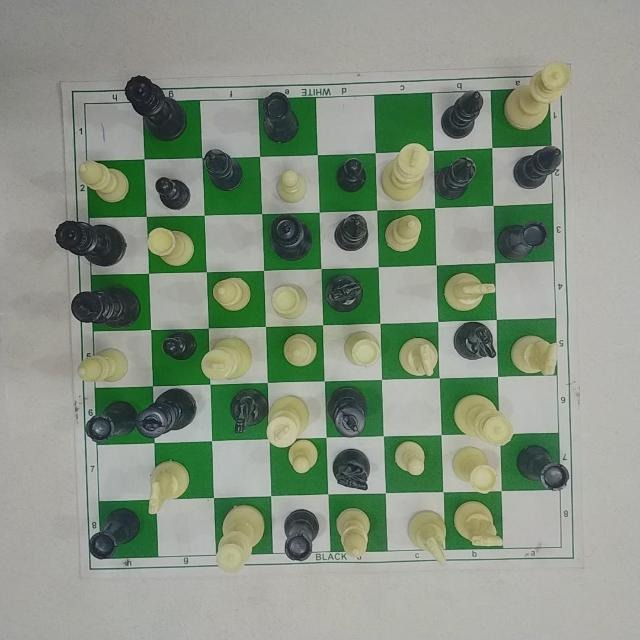black-bishop: (508, 144, 569, 193), (440, 86, 488, 144), (436, 155, 482, 201), (202, 146, 245, 192), (331, 209, 373, 253)
black-king: (63, 283, 148, 333), (138, 386, 201, 437), (324, 384, 373, 441)
black-knight: (451, 321, 503, 363), (223, 387, 266, 434), (326, 270, 370, 314), (332, 449, 374, 493)
black-pawn: (151, 173, 197, 213), (331, 155, 373, 195), (161, 326, 199, 364)
black-queen: (122, 72, 192, 142), (53, 217, 130, 267), (268, 213, 314, 263)
black-rook: (87, 508, 141, 560), (517, 442, 573, 492), (258, 89, 306, 145), (494, 217, 552, 263), (84, 398, 136, 444), (281, 506, 320, 562)
white-bishop: (72, 157, 133, 207), (74, 345, 133, 387), (334, 505, 376, 563), (383, 214, 431, 256), (208, 274, 256, 316), (281, 329, 325, 371)
white-king: (380, 140, 432, 204), (197, 335, 255, 381), (266, 397, 311, 449)
white-knight: (452, 496, 505, 552), (407, 506, 455, 567), (443, 267, 499, 317), (146, 456, 192, 513), (508, 330, 560, 376), (397, 335, 443, 380)
white-pawn: (393, 436, 431, 478), (275, 168, 312, 203), (288, 438, 320, 475)
white-queen: (502, 58, 571, 133), (451, 391, 519, 449), (212, 501, 268, 570)
white-rook: (142, 222, 198, 269), (451, 444, 501, 492), (339, 328, 389, 370), (268, 277, 313, 319)
